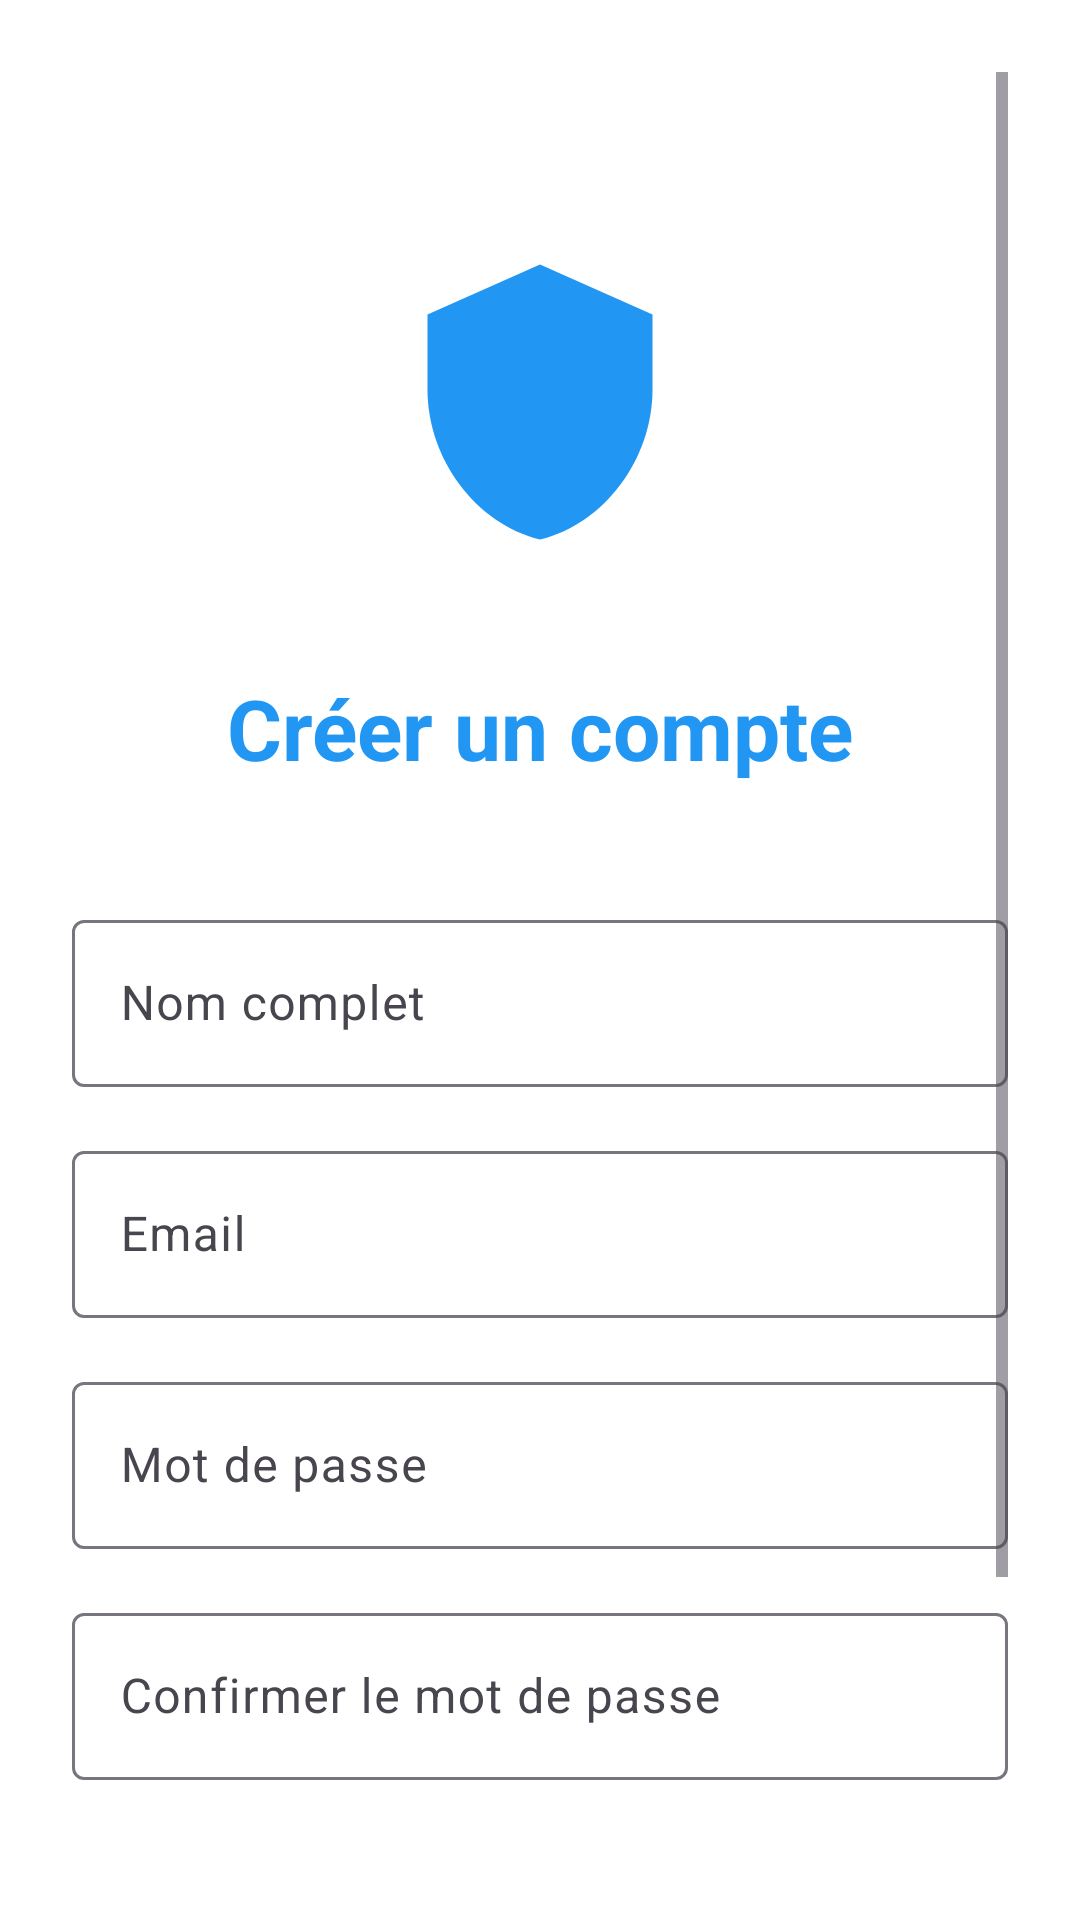

Where icons sit on this 1080×1920 app screen, as (x1, y1, x2, y2):
shield: (427, 264, 653, 540)
